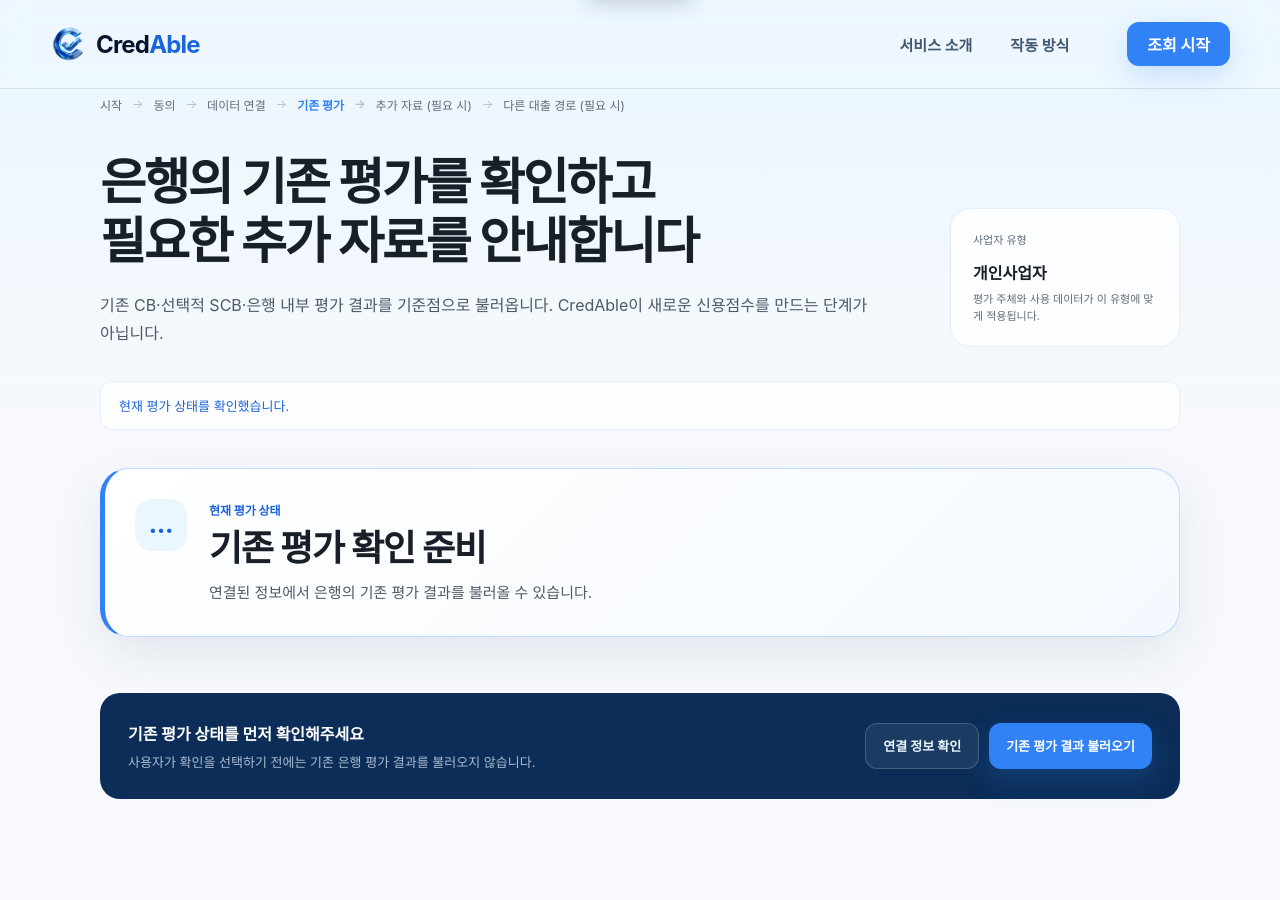
it: AssessmentPage › runs a completed assessment and then checks the server policy boundary
The image size is (1280, 900).
What coordinates should you click on to do the following:
click the button "기존 평가 결과 불러오기"
I would click on:
 (1071, 746)
Its box is [989,723,1152,769].
(page scrolled)
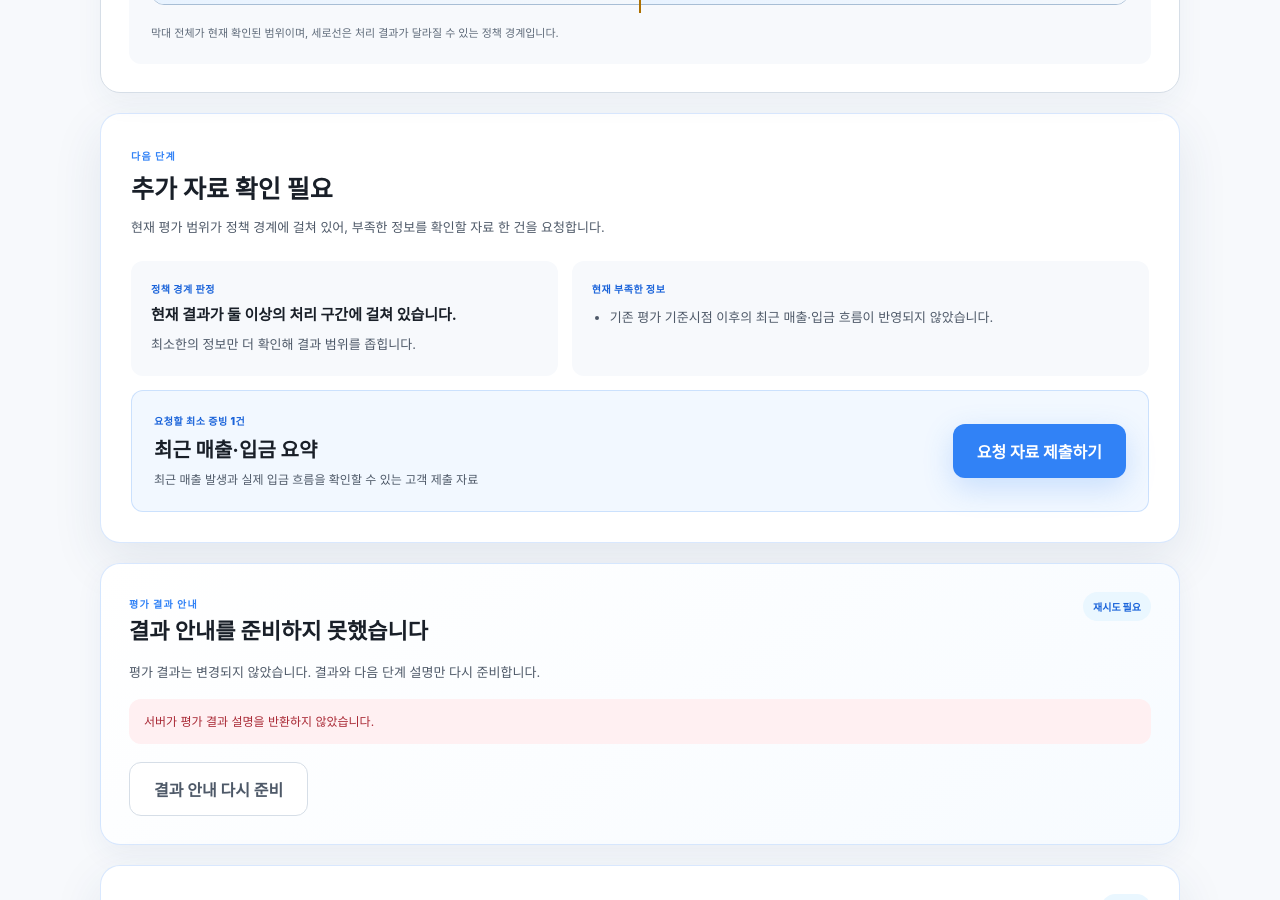
Result: the heading "추가 자료 확인 필요" is shown at [131,169,333,205]
Result: the list item "기존 평가 기준시점 이후의 최근 매출·입금 흐름이 반영되지 않았습니다." is shown at [610,309,993,325]
Result: the heading "최근 매출·입금 요약" is shown at [154,438,317,462]
